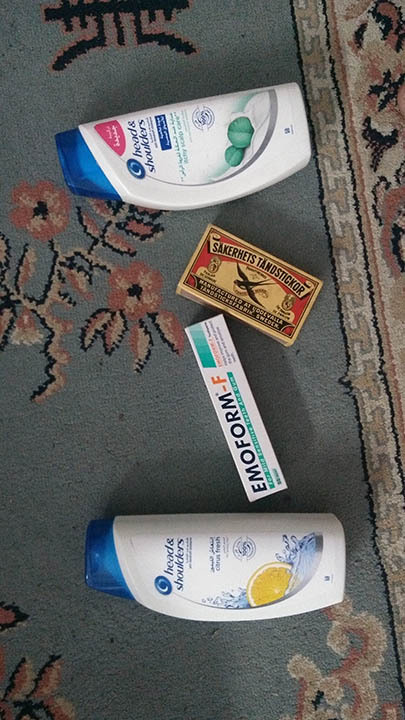Toothpaste-F 1.5$: (180, 307, 291, 502)
match-sticks .90$: (172, 221, 327, 346)
shampoo-Lemon 3.5$: (83, 505, 349, 625)
shampoo-green 4.5$: (51, 84, 309, 207)
